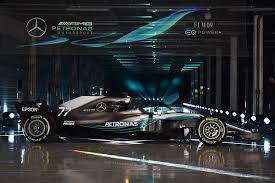FormulaOneCar: (10, 84, 263, 152)
